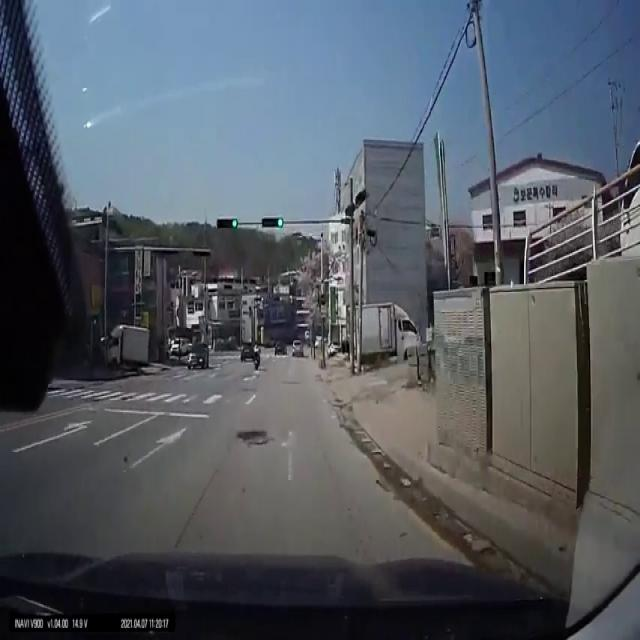Pothole: (236, 428, 270, 443)
